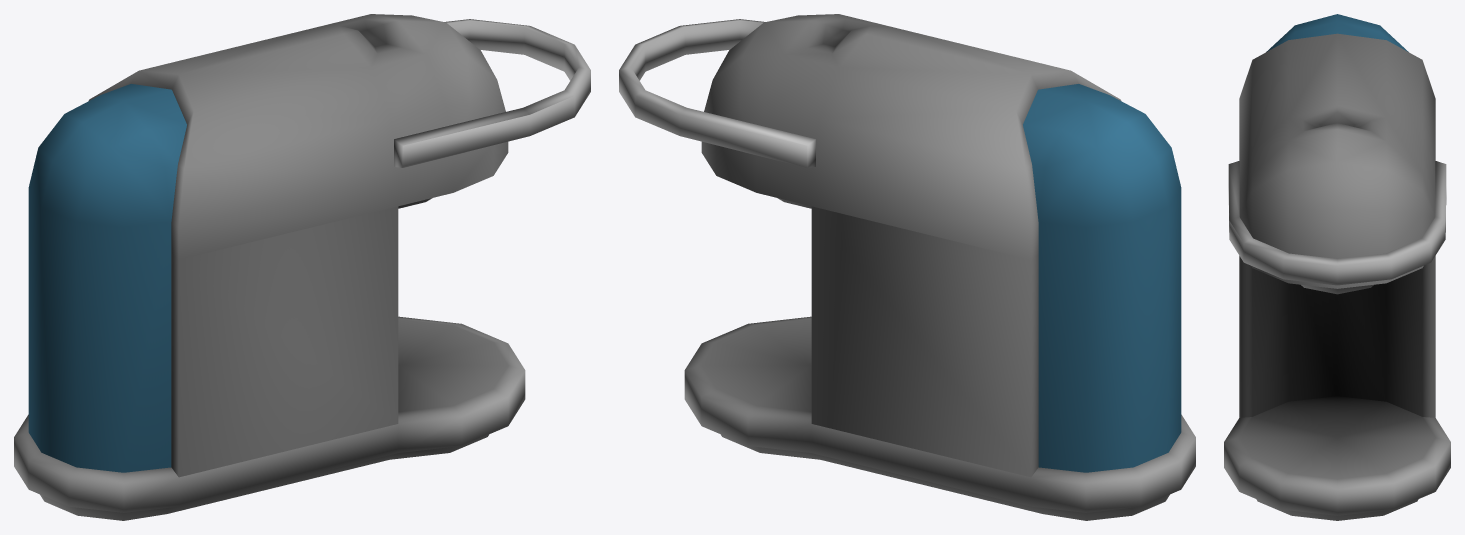
The model's file is coffe_machine_sf.fbx.
3 renders of one model, left to right at view 1: azimuth 30°, elevation 25°; view 2: azimuth 150°, elevation 25°; view 3: azimuth 270°, elevation 25°, orthographic. The views are drawn at different scales.
Parts seen in each view (by area): view 1: coffe_mach_model; view 2: coffe_mach_model; view 3: coffe_mach_model.
Part boxes in pixels (x1,y1,x2,y2): coffe_mach_model: (14, 14, 590, 520); coffe_mach_model: (619, 14, 1195, 520); coffe_mach_model: (1224, 14, 1450, 520).
Bounding box in the file's own units: 497 × 343 × 200.
